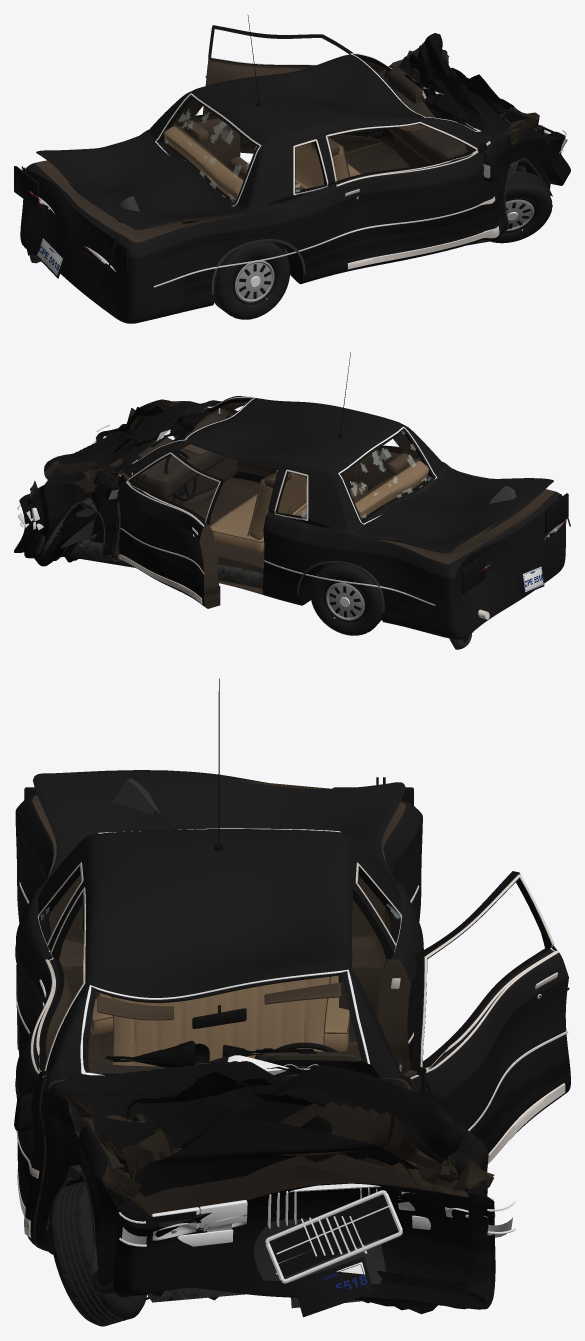
Rendered from coupe84_front_d3.glb.
3 renders of one model, top to bottom at view 1: azimuth 30°, elevation 25°; view 2: azimuth 150°, elevation 25°; view 3: azimuth 270°, elevation 25°, orthographic. The views are drawn at different scales.
Visible parts, largest first — view 1: Body, Door_FR, Trunk, Interior, Hood, Wheel_RR_mesh, Trim_FR, Door_FL, Wheel_FR_mesh, Trim, Ends, Glass; view 2: Body, Interior, Trunk, Door_FL, Hood, Wheel_RL_mesh, Trim, Ends, Trim_FL, Underbody, Glass, Door_FR (+2 smaller); view 3: Body, Hood, Trunk, Door_FL, Interior, Ends, Door_FR, Wheel_FR_mesh, Trim, Trim_FL, Glass, Trim_FR (+3 smaller).
Part boxes in pixels (x1,y1,x2,y2): Body: (20, 42, 570, 323); Door_FR: (324, 121, 501, 272); Trunk: (36, 133, 245, 229); Interior: (164, 67, 471, 200); Hood: (390, 33, 542, 142); Wheel_RR_mesh: (214, 241, 289, 319); Trim_FR: (325, 122, 499, 269); Door_FL: (203, 25, 385, 153); Wheel_FR_mesh: (490, 171, 552, 243); Trim: (153, 14, 550, 294); Ends: (14, 124, 567, 278); Glass: (155, 53, 480, 206); Body: (14, 396, 566, 639); Interior: (134, 413, 428, 552); Trunk: (353, 466, 553, 553); Door_FL: (116, 451, 224, 608); Hood: (44, 399, 210, 493); Wheel_RL_mesh: (310, 563, 381, 635); Trim: (35, 352, 435, 612); Ends: (17, 425, 570, 594); Trim_FL: (104, 452, 220, 603); Underbody: (62, 498, 489, 619); Glass: (132, 396, 437, 524); Door_FR: (213, 403, 356, 489); Body: (15, 794, 495, 1314); Hood: (47, 1061, 463, 1196); Trunk: (33, 770, 405, 886); Door_FL: (401, 871, 570, 1153); Interior: (88, 975, 361, 1073); Ends: (24, 777, 515, 1317); Door_FR: (16, 886, 86, 1248); Wheel_FR_mesh: (49, 1181, 146, 1326); Trim: (15, 678, 423, 1273); Trim_FL: (399, 874, 569, 1163); Glass: (41, 828, 401, 1075); Trim_FR: (14, 887, 85, 1237).
Size of the model in its own units: 4.38 by 2.19 by 2.46.
Materials: 33 (5 with a texture image).
